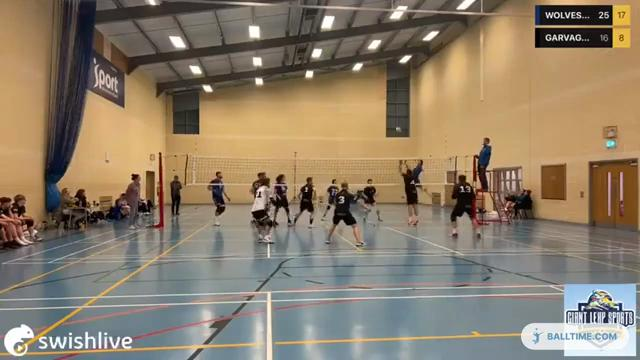Attack: (407, 155, 432, 196)
Block: (396, 156, 426, 231)
Player: (325, 182, 364, 246), (450, 175, 480, 237), (251, 177, 274, 243), (208, 171, 229, 225), (294, 177, 315, 227), (274, 174, 292, 225), (362, 179, 381, 222), (322, 179, 338, 220), (250, 172, 265, 197), (250, 172, 265, 196)
ball: (394, 125, 400, 132)
